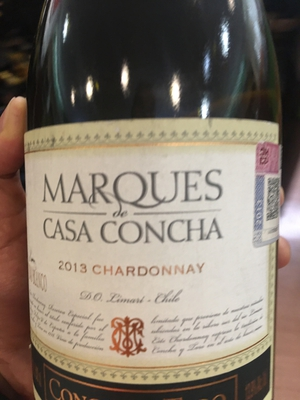marques de casa concha chardonnay: (23, 20, 281, 400)
